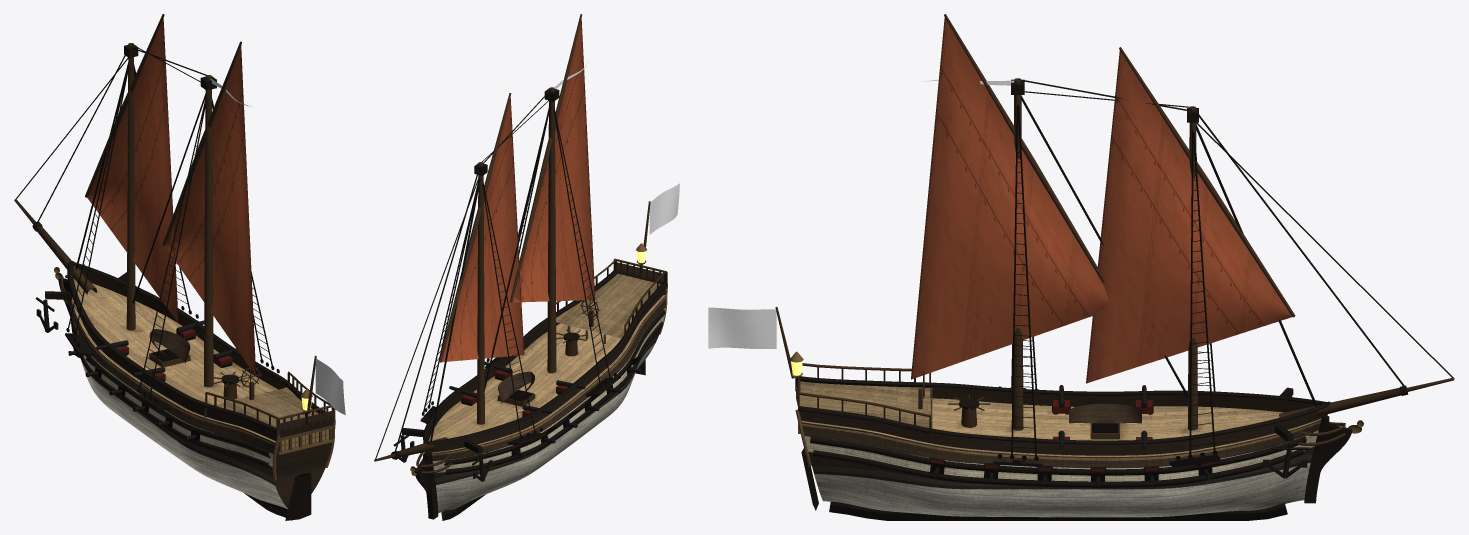
The model's file is lugger.gltf.
The picture shows the model from 3 angles, left to right: view 1: azimuth 30°, elevation 25°; view 2: azimuth 150°, elevation 25°; view 3: azimuth 270°, elevation 25°; orthographic projection. The views are drawn at different scales.
Visible parts, largest first — view 1: Hull, Sail_1_lateen, Sail_0_lateen, Flag; view 2: Hull, Sail_1_lateen, Sail_0_lateen, Flag; view 3: Hull, Sail_1_lateen, Sail_0_lateen, Flag.
Boxes of the visible parts, x1,y1,x2,y2 form: Hull: (14,14,335,520); Sail_1_lateen: (164,44,256,376); Sail_0_lateen: (87,15,178,323); Flag: (315,358,345,414); Hull: (374,14,667,520); Sail_1_lateen: (512,19,595,302); Sail_0_lateen: (441,97,524,362); Flag: (649,183,679,234); Hull: (775,14,1454,520); Sail_1_lateen: (911,17,1108,379); Sail_0_lateen: (1086,50,1292,383); Flag: (708,307,776,348).
Size of the model in its own units: 7.76 by 26.44 by 35.28.
18 materials, 4 textured.
